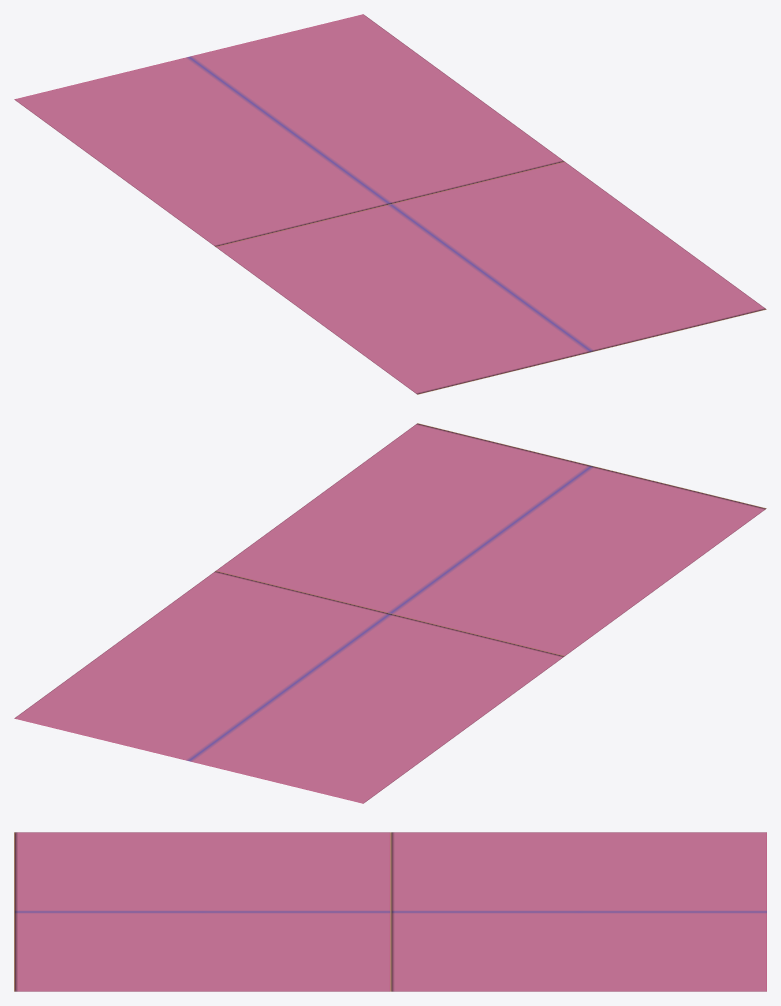
File: MK_Path_Straight_Trim_Frayed.fbx
The picture shows the model from 3 angles, top to bottom: view 1: azimuth 30°, elevation 25°; view 2: azimuth 150°, elevation 25°; view 3: azimuth 270°, elevation 25°; orthographic projection. The views are drawn at different scales.
Visible parts, largest first — view 1: Path_Straight_Trim_Frayed; view 2: Path_Straight_Trim_Frayed; view 3: Path_Straight_Trim_Frayed.
Boxes of the visible parts, <box> form: Path_Straight_Trim_Frayed: <box>14,14,766,394</box>; Path_Straight_Trim_Frayed: <box>14,423,766,803</box>; Path_Straight_Trim_Frayed: <box>14,832,766,991</box>.
Size of the model in its own units: 90 by 0 by 180.
1 material, 1 textured.
